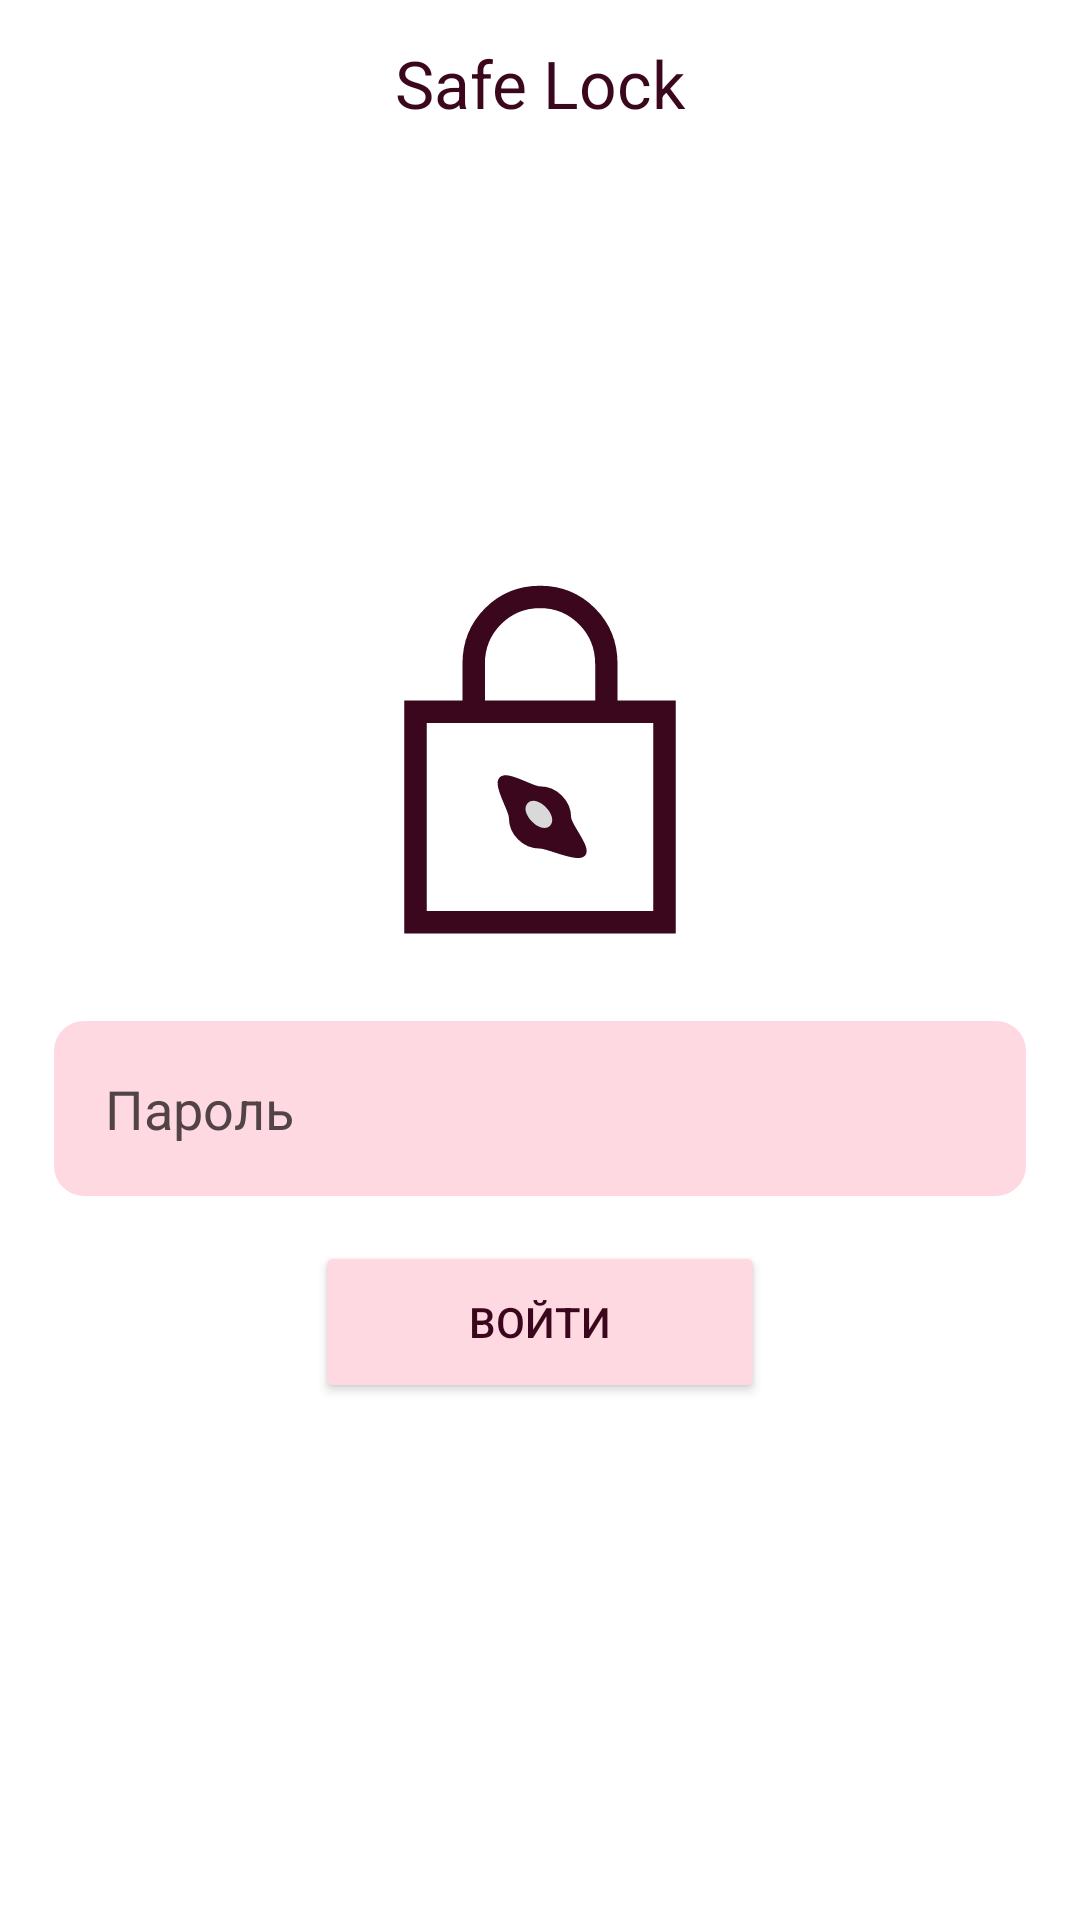

Screen size 1080w x 1920h. Icon name, then its center in pixels as (x=x, y=y):
closed: (x=540, y=759)
